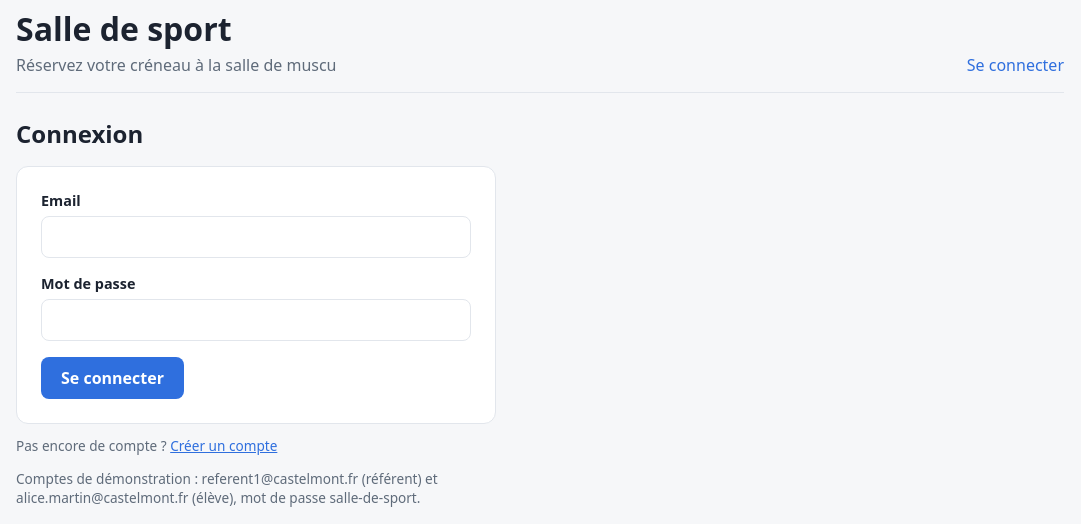
LoginPage › goes to the planning once logged in, and keeps the token
Type "alice.martin@castelmont.fr" into the field labelled "Email" at (256, 237), box [41,216,471,258]
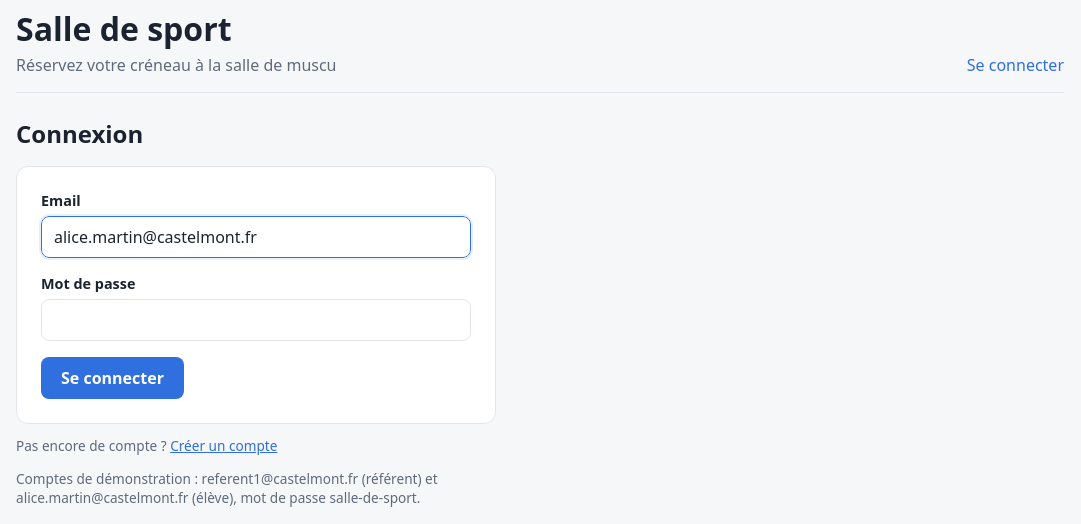
Type "salle-de-sport" into the password field labelled "Mot de passe" at (256, 320), box [41,299,471,341]
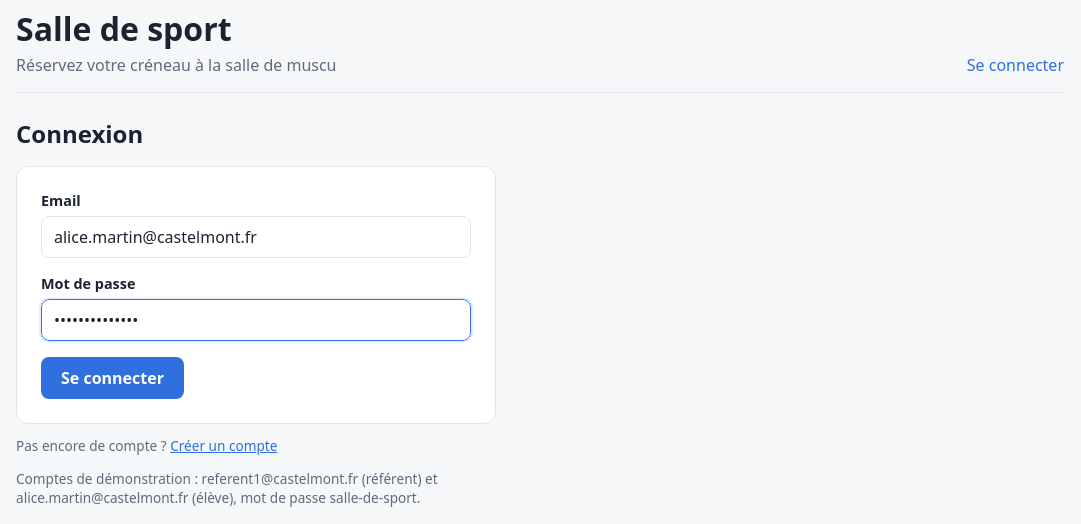
Click the button "Se connecter" at (112, 378), box [41,357,184,399]
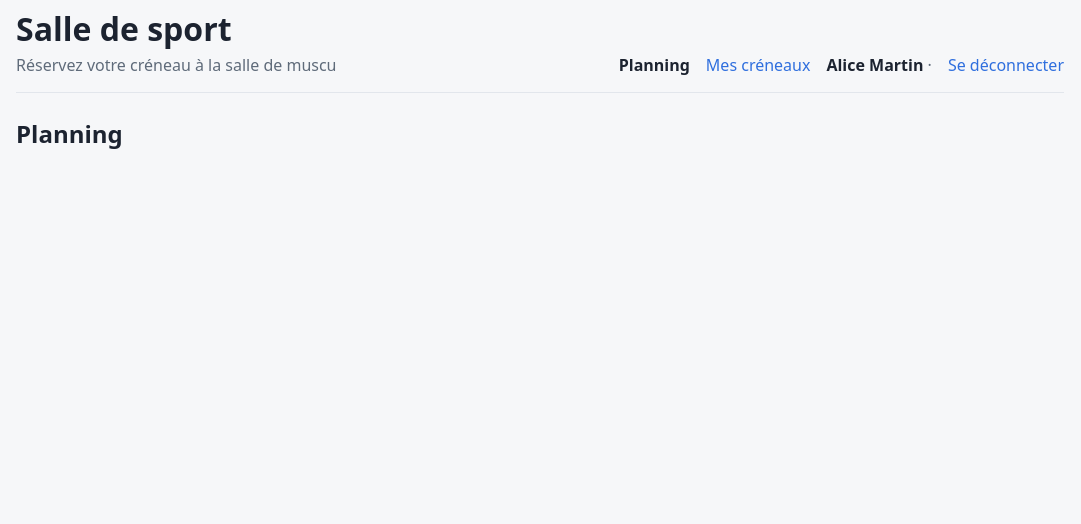
Expected: the heading "Planning" is shown, [16,117,123,150]
